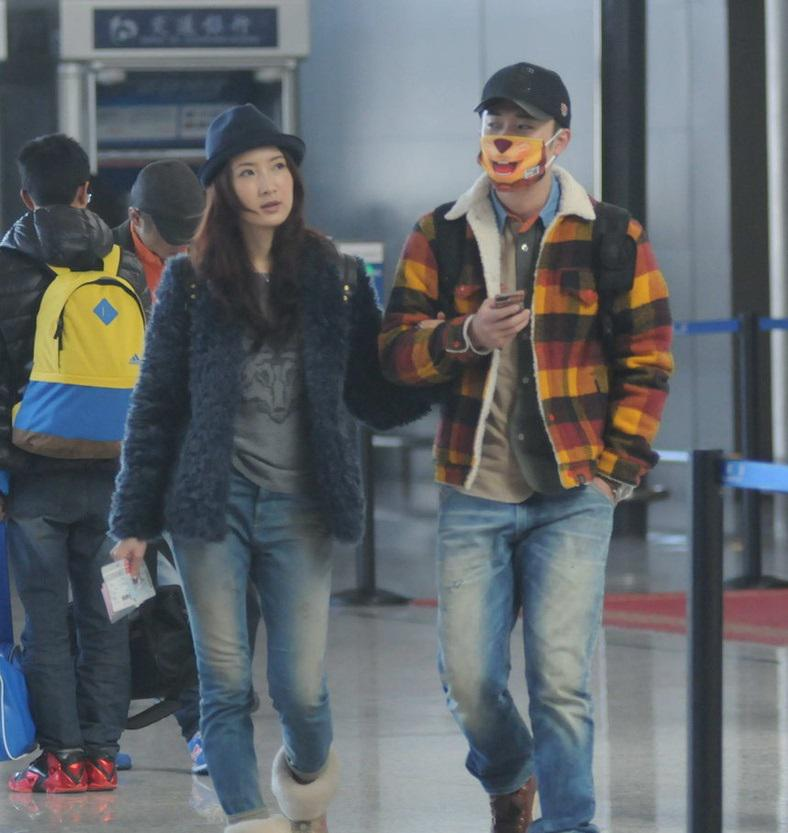NONE: (240, 155, 299, 223)
OK: (478, 108, 558, 188)
